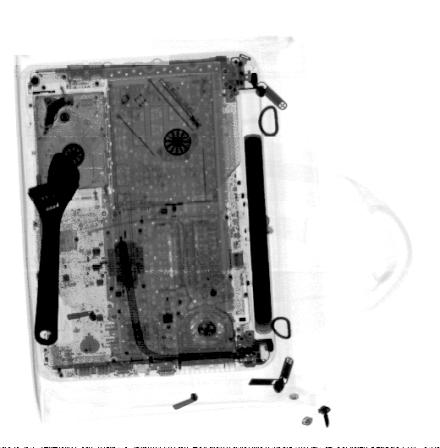Wrench: (26, 150, 81, 349)
